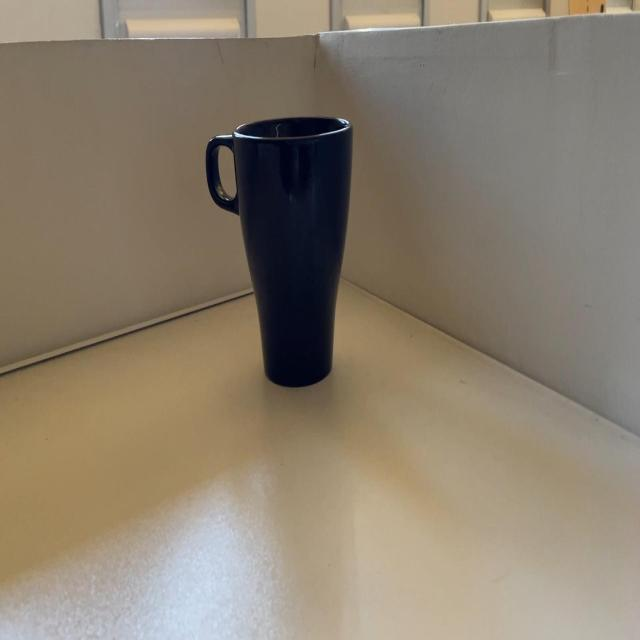cup: (214, 111, 362, 392)
